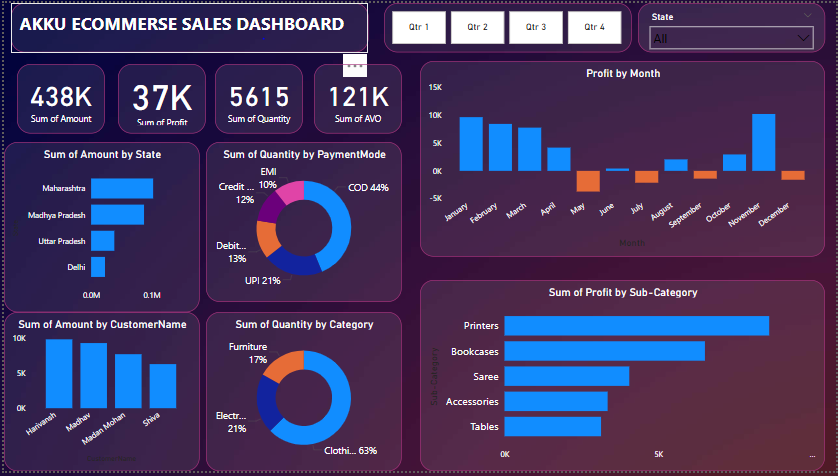

What the dashboard file says about the page in this screenshot:
{"tool":"powerbi","page":{"name":"Page 1","canvas":[1280,720],"ordinal":0},"visuals":[{"type":"textbox","box":[10.1,0,550.1,76.3],"z":0},{"type":"columnChart","title":"Profit by Month","fields":{"Category":["Orders.Order Date.Variation.Date Hierarchy.Month"],"Y":["Details.Profit"]},"box":[640,89,623.2,300.7],"z":1000},{"type":"barChart","fields":{"Category":["Details.Sub-Category"],"Y":["Details.Profit"]},"box":[640,426.7,623.2,294],"z":2000},{"type":"donutChart","fields":{"Y":["Details.Quantity"],"Category":["Details.Category"]},"box":[311,475.2,301,244.8],"z":3000},{"type":"donutChart","fields":{"Y":["Details.Quantity"],"Category":["Details.PaymentMode"]},"box":[311.1,213.9,301.4,245.8],"z":4000},{"type":"card","fields":{"Values":["Details.Amount"]},"box":[20.2,93.6,135.4,106.6],"z":5000},{"type":"card","fields":{"Values":["Details.Profit"]},"box":[175.7,93.6,135.4,106.6],"z":6000},{"type":"card","fields":{"Values":["Details.Quantity"]},"box":[324,93.6,135.4,106.6],"z":7000},{"type":"card","fields":{"Values":["Details.AVO"]},"box":[476.6,93.6,135.4,106.6],"z":8000},{"type":"barChart","fields":{"Category":["Orders.State"],"Y":["Details.Amount"]},"box":[0,213.3,300.7,262],"z":9000},{"type":"columnChart","fields":{"Category":["Orders.CustomerName"],"Y":["Details.Amount"]},"box":[0,475,301,245],"z":10000},{"type":"advancedSlicerVisual","fields":{"Values":["Orders.Order Date.Variation.Date Hierarchy.Quarter"]},"box":[584.7,0,380.6,76.4],"z":11000},{"type":"slicer","fields":{"Values":["Orders.State"]},"box":[974.9,0,288,76.3],"z":12000}]}

Visuals, with their boxes in screenshot pixels (x1, y1, x2, y2), scaled from the page's 1280x720 canvas onto the 838x476 screenshot:
textbox: rect(7, 0, 367, 50)
"Profit by Month" columnChart: rect(419, 59, 827, 258)
barChart - Details.Sub-Category x Details.Profit: rect(419, 282, 827, 475)
donutChart - Details.Quantity x Details.Category: rect(204, 314, 401, 475)
donutChart - Details.Quantity x Details.PaymentMode: rect(204, 141, 401, 304)
card - Details.Amount: rect(13, 62, 102, 132)
card - Details.Profit: rect(115, 62, 204, 132)
card - Details.Quantity: rect(212, 62, 301, 132)
card - Details.AVO: rect(312, 62, 401, 132)
barChart - Orders.State x Details.Amount: rect(0, 141, 197, 314)
columnChart - Orders.CustomerName x Details.Amount: rect(0, 314, 197, 475)
advancedSlicerVisual - Orders.Order Date.Variation.Date Hierarchy.Quarter: rect(383, 0, 632, 51)
slicer - Orders.State: rect(638, 0, 827, 50)
